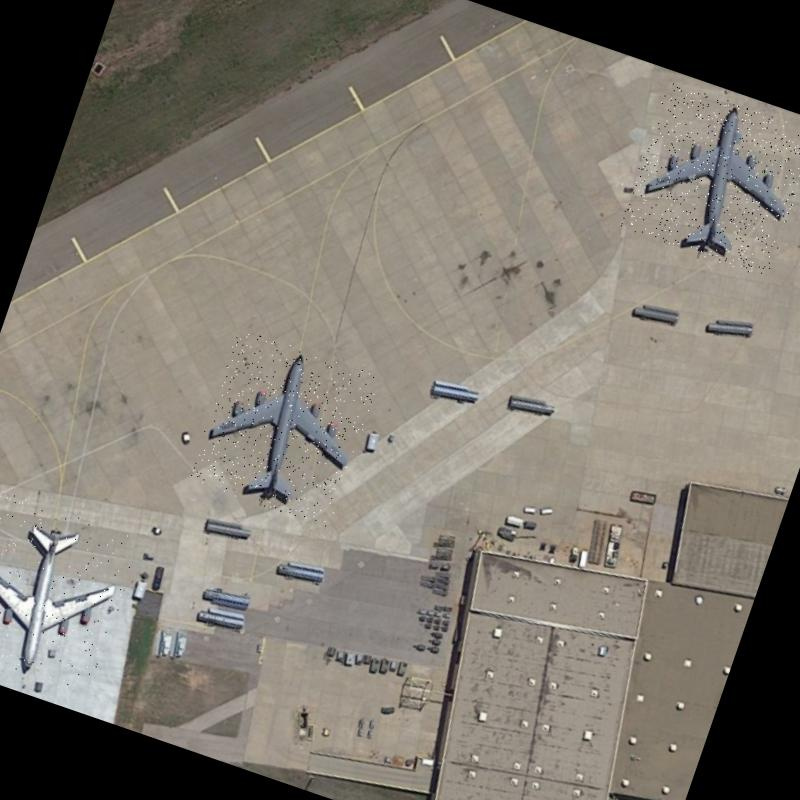A14: (186, 328, 382, 529), (618, 80, 800, 279), (0, 489, 142, 700)
